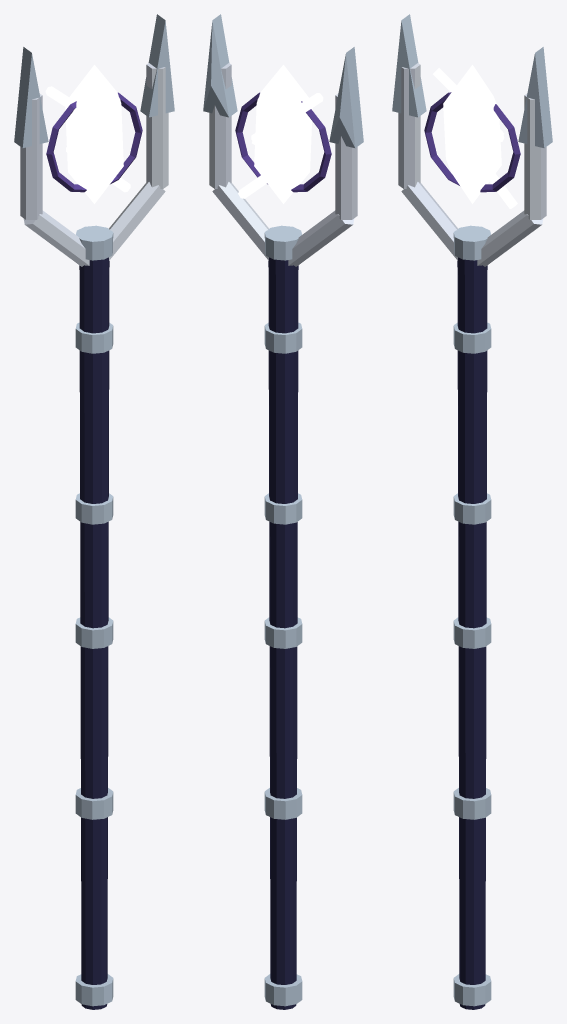
Rendered from stormcaller_weapon.glb.
3 views of the same model, side by side, from view 1: azimuth 30°, elevation 25°; view 2: azimuth 150°, elevation 25°; view 3: azimuth 330°, elevation 25° (orthographic).
Visible parts, largest first — view 1: Stormcaller_Weapon_Static; view 2: Stormcaller_Weapon_Static; view 3: Stormcaller_Weapon_Static.
Boxes of the visible parts, left/top/right/bottom form: Stormcaller_Weapon_Static: left=14, top=14, right=174, bottom=1009; Stormcaller_Weapon_Static: left=203, top=14, right=363, bottom=1009; Stormcaller_Weapon_Static: left=392, top=14, right=552, bottom=1009.
Size of the model in its own units: 0.41 by 2.5 by 0.1191.
